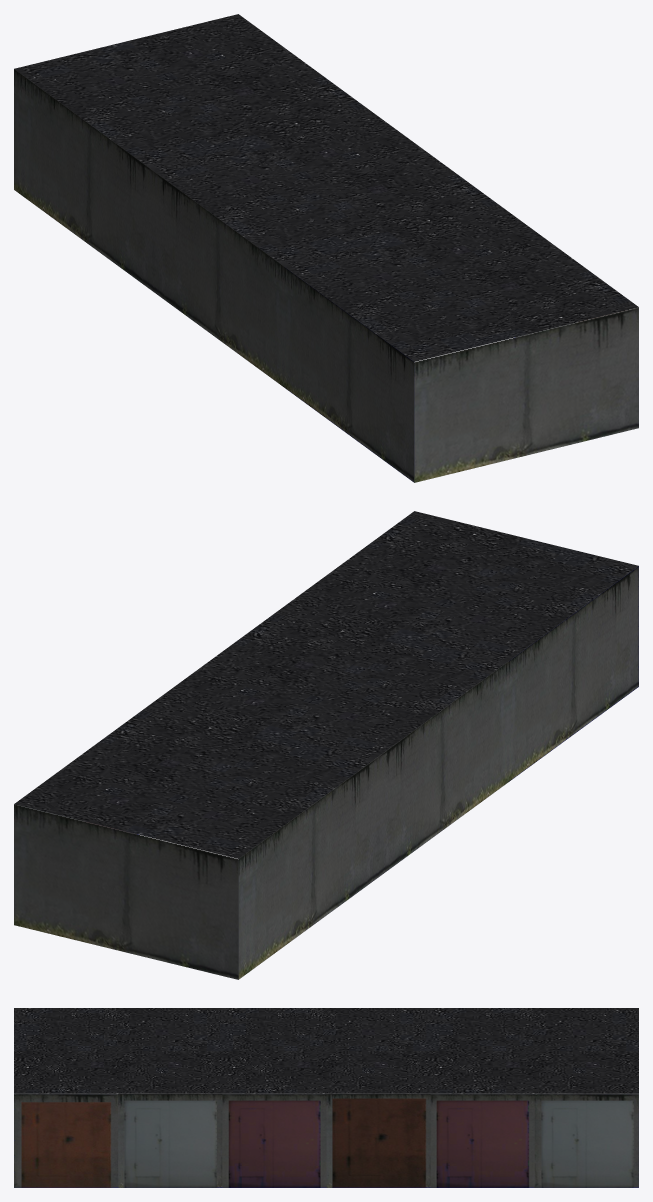
The model's file is Garage3.FBX.
3 renders of one model, top to bottom at view 1: azimuth 30°, elevation 25°; view 2: azimuth 150°, elevation 25°; view 3: azimuth 270°, elevation 25°, orthographic. The views are drawn at different scales.
Parts seen in each view (by area): view 1: Box001; view 2: Box001; view 3: Box001.
Boxes of the visible parts, left/top/right/bottom form: Box001: left=14, top=14, right=638, bottom=482; Box001: left=14, top=511, right=638, bottom=979; Box001: left=14, top=1008, right=638, bottom=1187.
Bounding box in the file's own units: 8.68 × 4.47 × 26.82.
